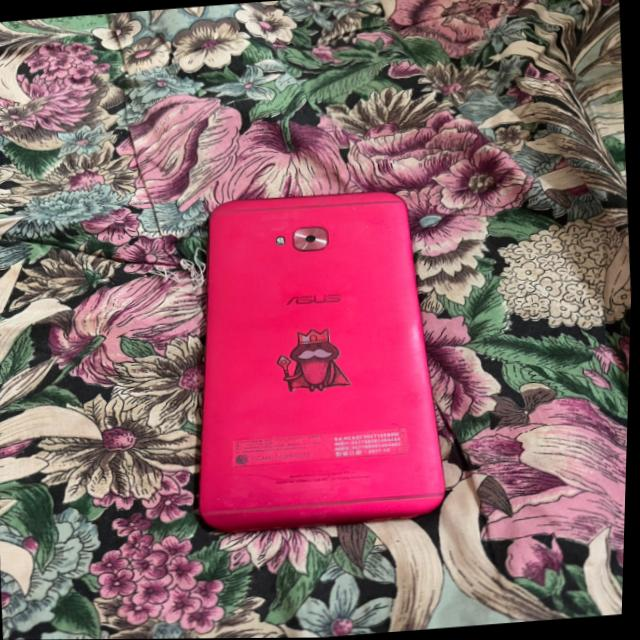Smartphone: (202, 192, 447, 533)
